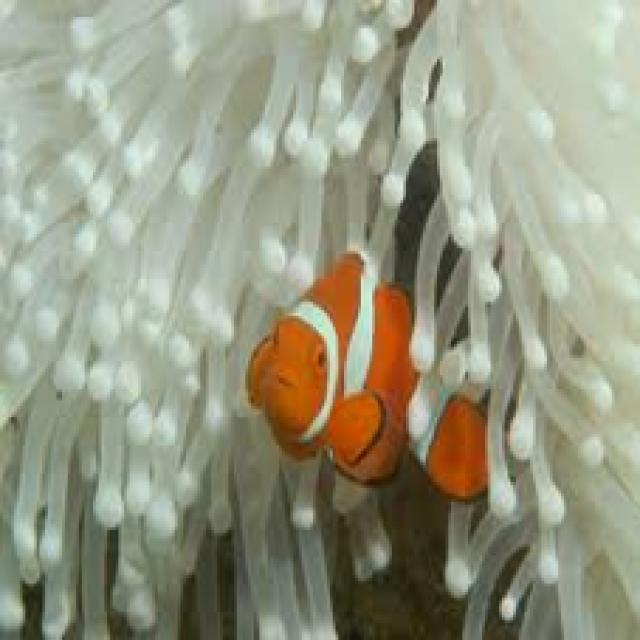Bleached: (1, 4, 413, 638), (401, 1, 638, 638)
